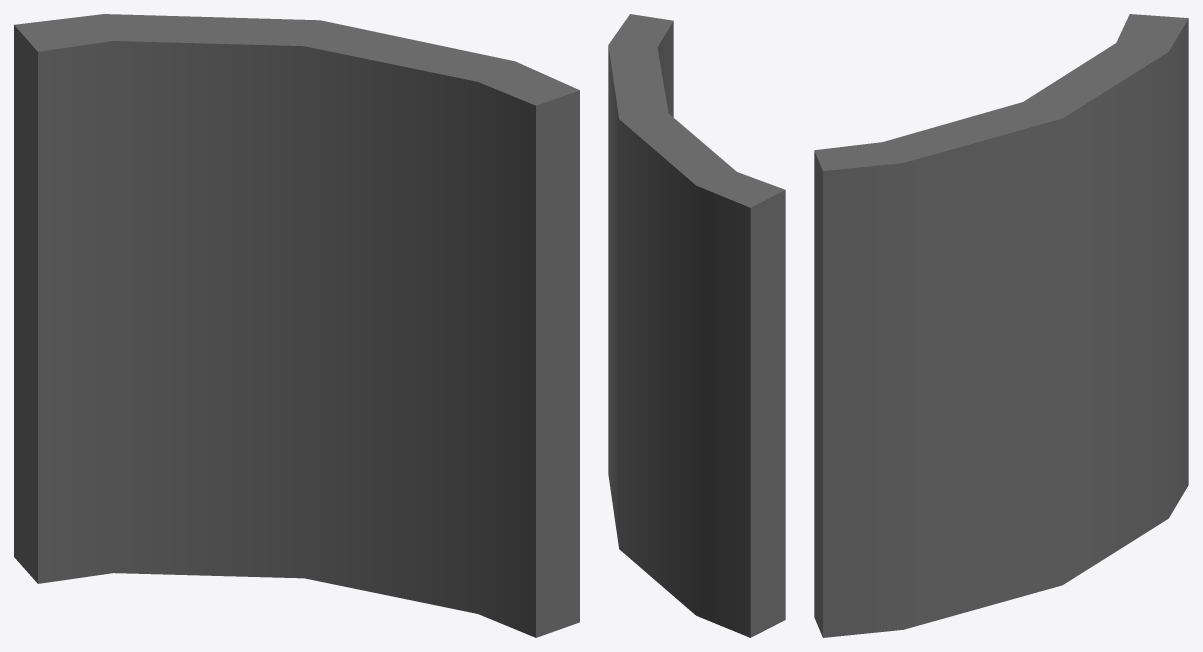
Rendered from Collider_mccpq2_b.FBX.
3 renders of one model, left to right at view 1: azimuth 30°, elevation 25°; view 2: azimuth 150°, elevation 25°; view 3: azimuth 270°, elevation 25°, orthographic. The views are drawn at different scales.
Visible parts, largest first — view 1: Collider_mccpq2_b; view 2: Collider_mccpq2_b; view 3: Collider_mccpq2_b.
Boxes of the visible parts, x1,y1,x2,y2 form: Collider_mccpq2_b: [14, 14, 579, 637]; Collider_mccpq2_b: [608, 14, 785, 637]; Collider_mccpq2_b: [814, 14, 1188, 637].
Size of the model in its own units: 419 by 581 by 422.
1 material, 1 textured.
